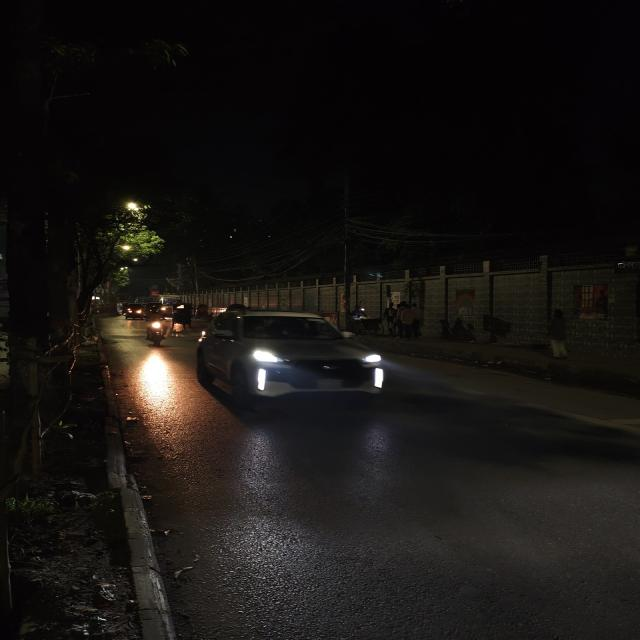bus: (155, 295, 182, 305)
car: (192, 306, 393, 413)
cng: (123, 302, 145, 321)
motorcycle: (142, 309, 174, 349)
pedestrian: (542, 306, 576, 364), (389, 300, 423, 340)
rickshaw: (168, 304, 195, 338), (196, 304, 208, 322)
